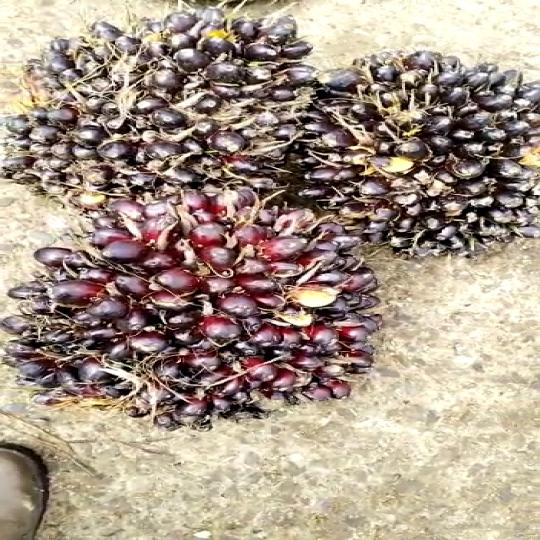mentah: (28, 196, 388, 448), (9, 3, 319, 209), (273, 42, 540, 254)
